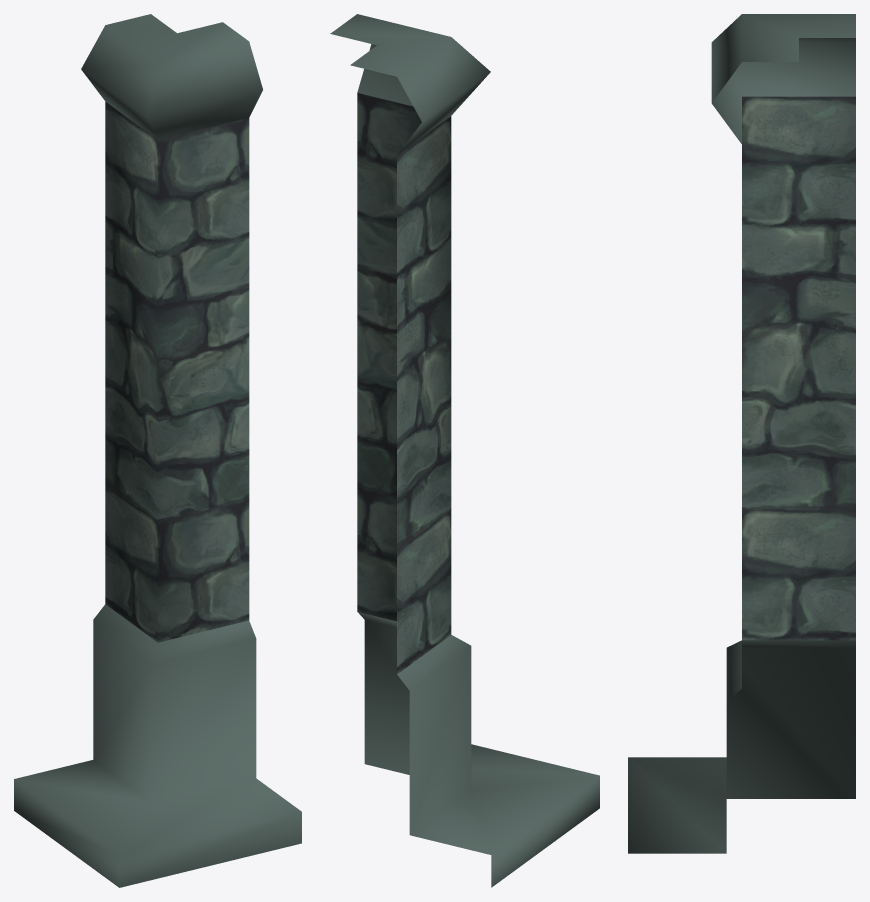
The model's file is wall5.fbx.
3 views of the same model, side by side, from view 1: azimuth 30°, elevation 25°; view 2: azimuth 150°, elevation 25°; view 3: azimuth 270°, elevation 25° (orthographic). The views are drawn at different scales.
Parts seen in each view (by area): view 1: stone, trim; view 2: stone, trim; view 3: stone, trim.
Part boxes in pixels (x1,y1,x2,y2): stone: (105, 102, 249, 642); trim: (14, 14, 301, 887); stone: (357, 93, 451, 674); trim: (330, 14, 599, 887); stone: (742, 96, 855, 640); trim: (628, 14, 855, 853).
Bounding box in the file's own units: 30 × 120 × 30.
